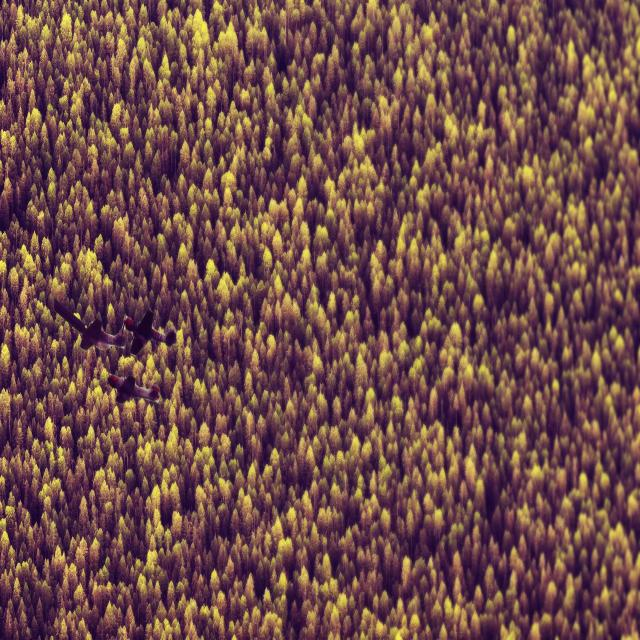airplane: (53, 297, 126, 353), (122, 308, 177, 356), (106, 372, 160, 404)
